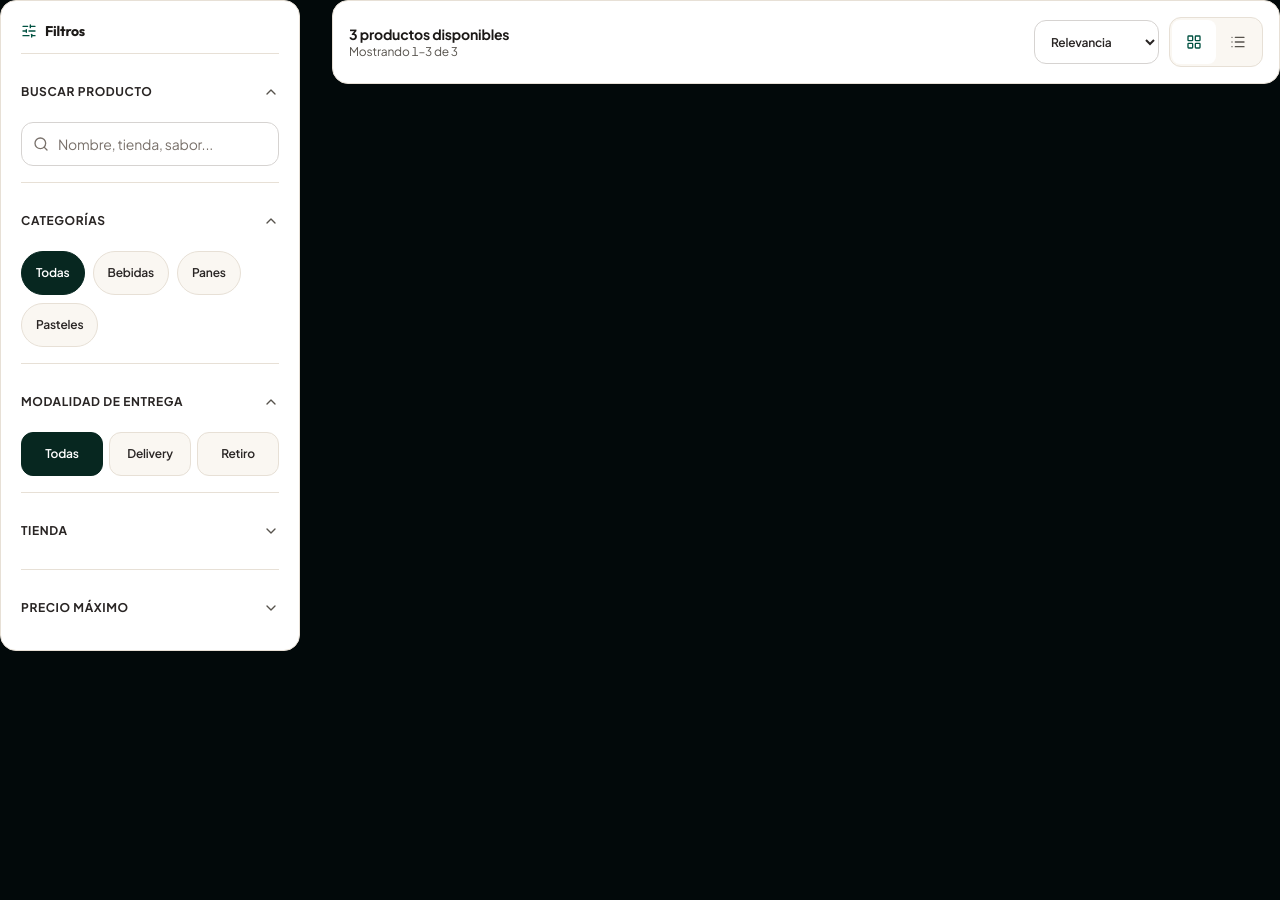
Test case: ProductsCatalogView Component › shows actionable empty state with blocking filter details and one-click reset
The image size is (1280, 900).
Type "inexistente" into the search field named "Buscar producto o tienda" at (150, 144), box [21,122,279,166]
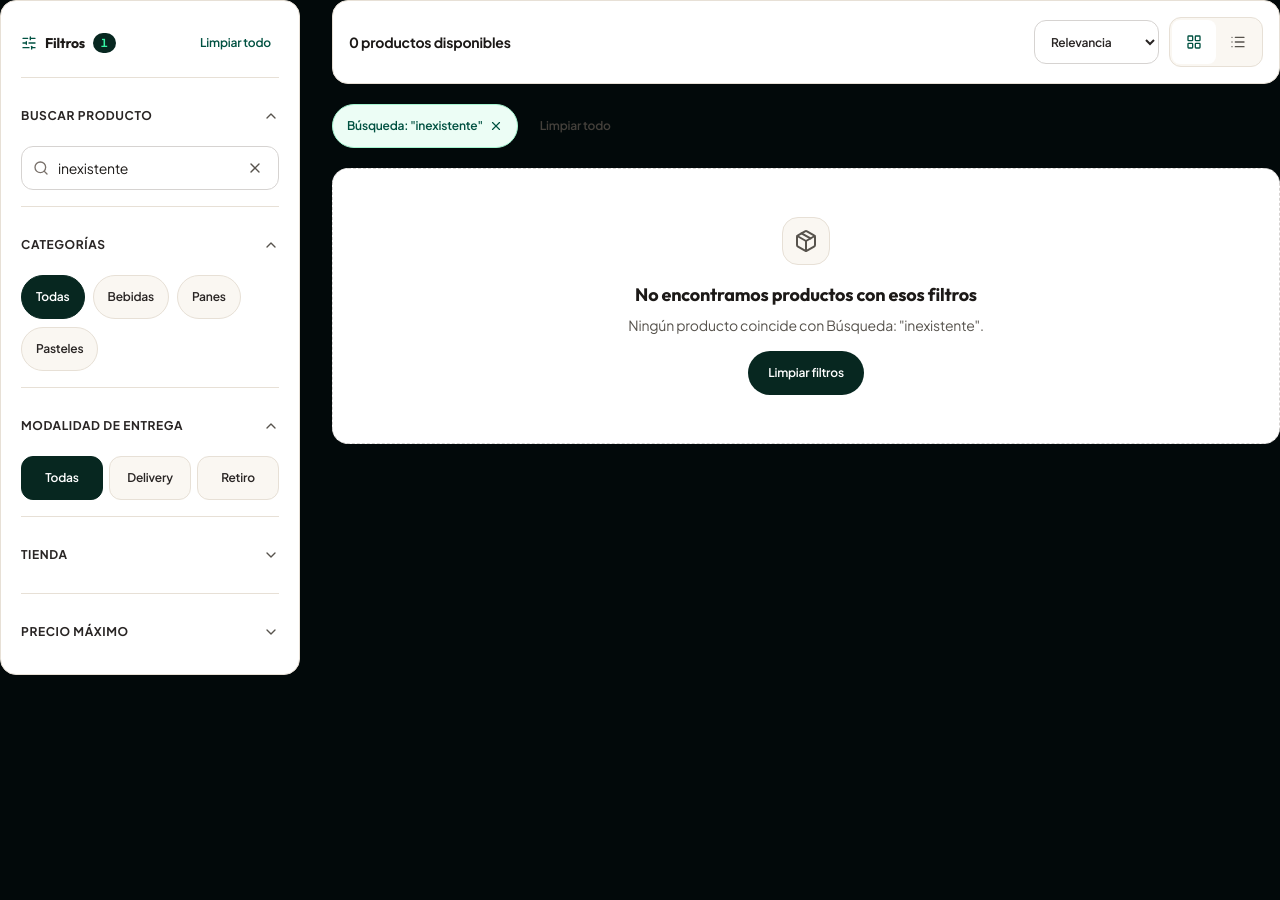
Check: the heading "No encontramos productos con esos filtros" is shown, box [635,283,977,306]
Check: the text "Ningún producto coincide con Búsqueda: \"inexistente\"." is shown, box [628,316,984,334]
Click the button "Limpiar filtros" at (806, 373), box [748,351,864,395]
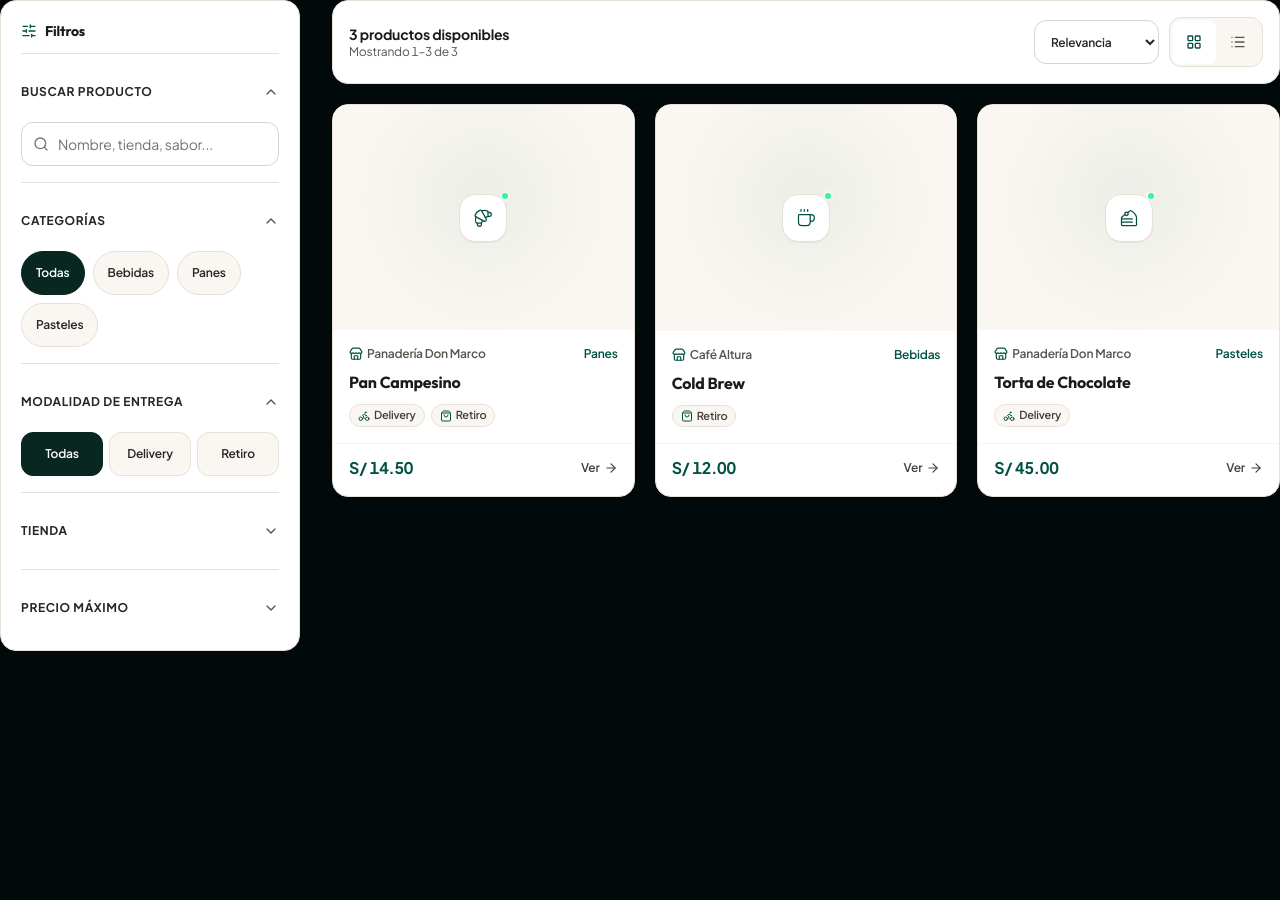
Check: the text "3 productos disponibles" is shown, box [349,24,509,44]
